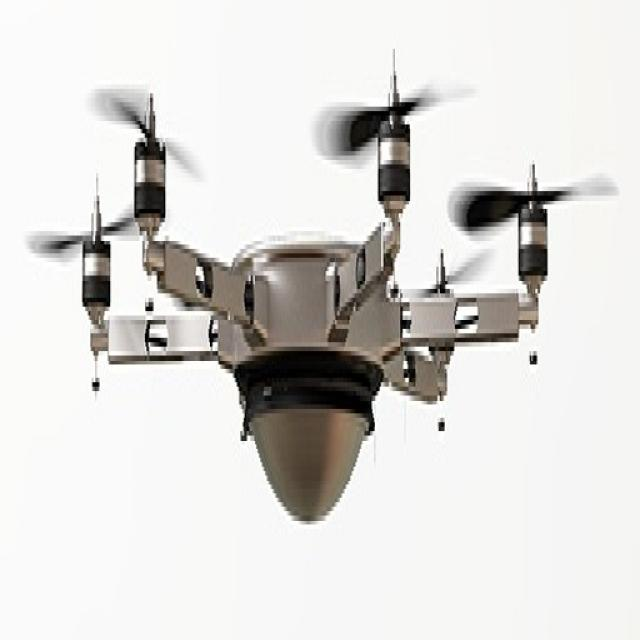drone: (16, 0, 624, 548)
